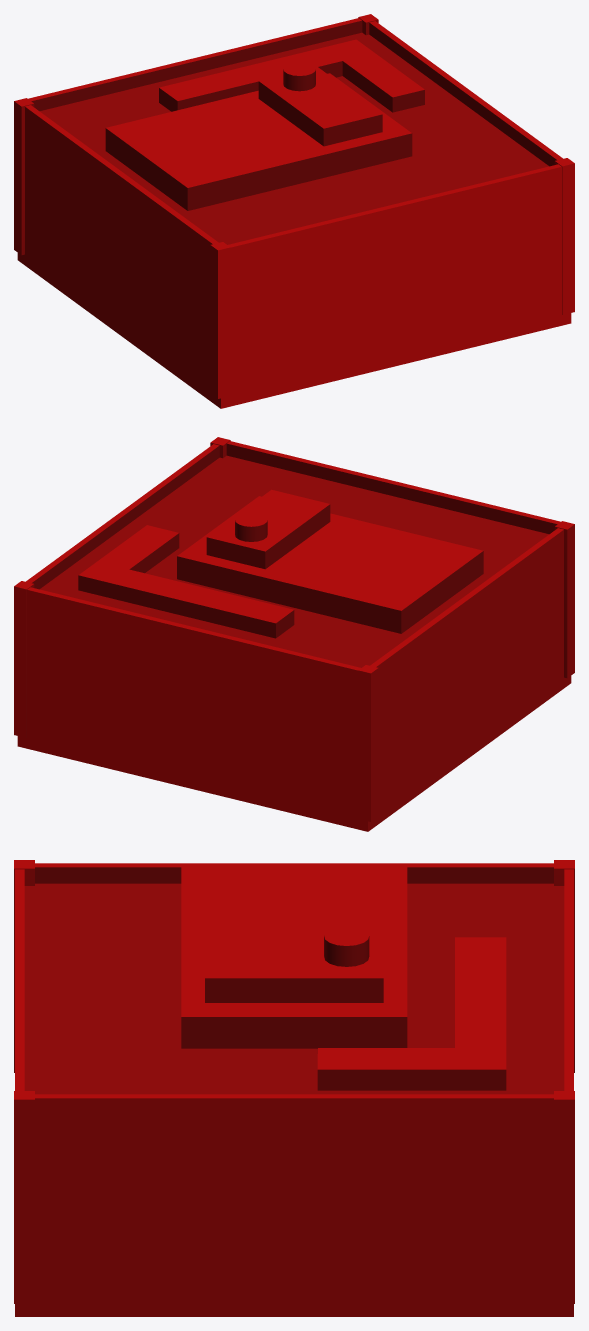
File: buildings-industrial-smallindustrialstructure_v3.fbx
3 views of the same model, one above another, from view 1: azimuth 30°, elevation 25°; view 2: azimuth 150°, elevation 25°; view 3: azimuth 270°, elevation 25° (orthographic). The views are drawn at different scales.
Visible parts, largest first — view 1: SmallIndustrialStructure_v3; view 2: SmallIndustrialStructure_v3; view 3: SmallIndustrialStructure_v3.
Boxes of the visible parts, left/top/right/bottom form: SmallIndustrialStructure_v3: left=14, top=14, right=574, bottom=408; SmallIndustrialStructure_v3: left=14, top=437, right=574, bottom=831; SmallIndustrialStructure_v3: left=14, top=860, right=574, bottom=1316.
Size of the model in its own units: 10.98 by 5.97 by 10.87.
